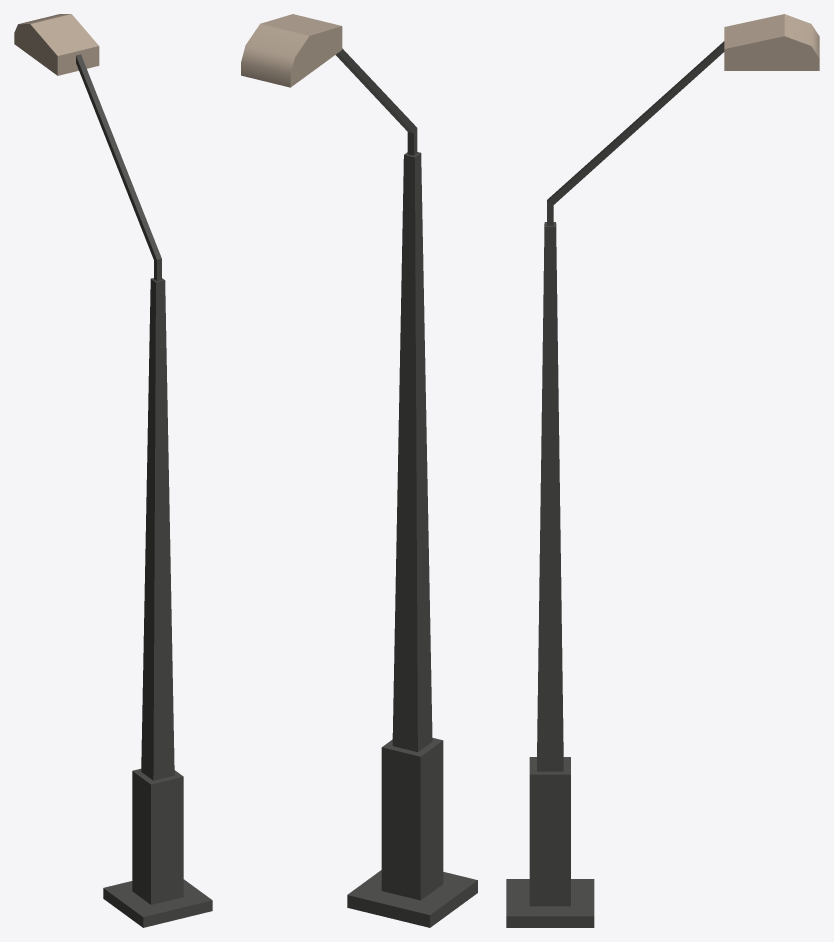
Rendered from light_1.fbx.
3 renders of one model, left to right at view 1: azimuth 30°, elevation 25°; view 2: azimuth 150°, elevation 25°; view 3: azimuth 270°, elevation 25°, orthographic. The views are drawn at different scales.
Visible parts, largest first — view 1: light_1; view 2: light_1; view 3: light_1.
Boxes of the visible parts, <box> form: light_1: <box>14,14,212,927</box>; light_1: <box>241,14,477,927</box>; light_1: <box>506,14,819,927</box>.
Bounding box in the file's own units: 33.87 × 377 × 121.
Materials: 1 (1 with a texture image).
